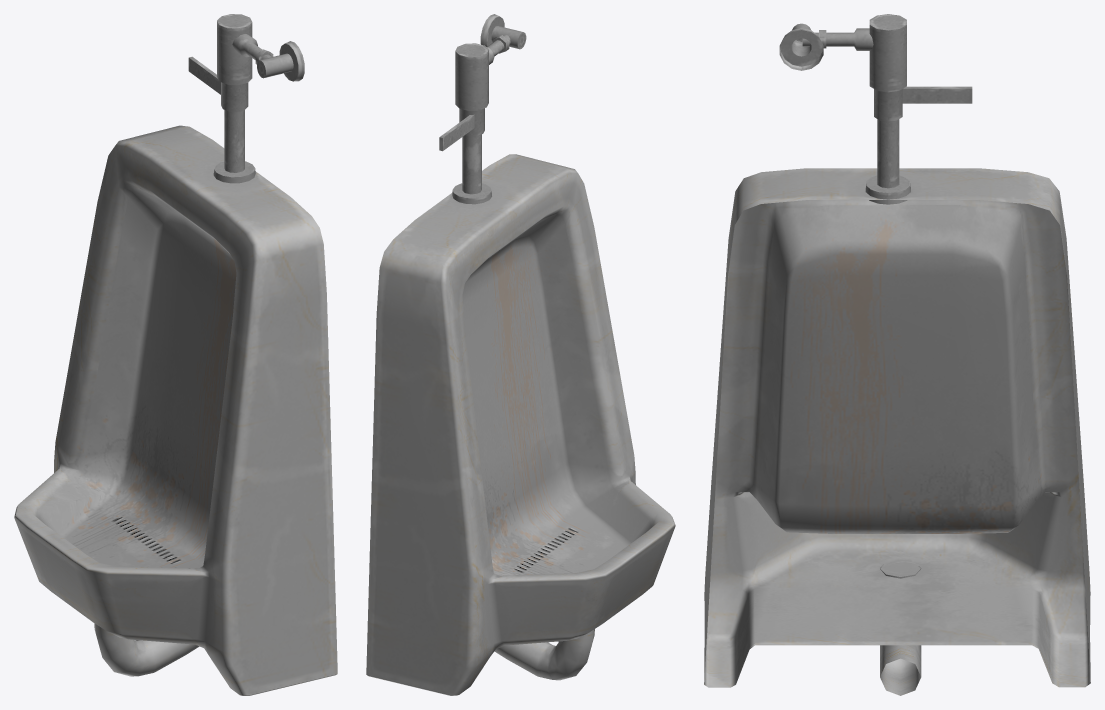
The model's file is MB_Urinal.fbx.
3 renders of one model, left to right at view 1: azimuth 30°, elevation 25°; view 2: azimuth 150°, elevation 25°; view 3: azimuth 270°, elevation 25°, orthographic. The views are drawn at different scales.
Parts seen in each view (by area): view 1: MB_Urinal_LOD0; view 2: MB_Urinal_LOD0; view 3: MB_Urinal_LOD0.
Boxes of the visible parts, x1,y1,x2,y2 form: MB_Urinal_LOD0: (14, 14, 337, 695); MB_Urinal_LOD0: (366, 14, 675, 695); MB_Urinal_LOD0: (704, 14, 1090, 695).
Size of what is drawn, in the model's own units: 41.62 by 125 by 62.7.
